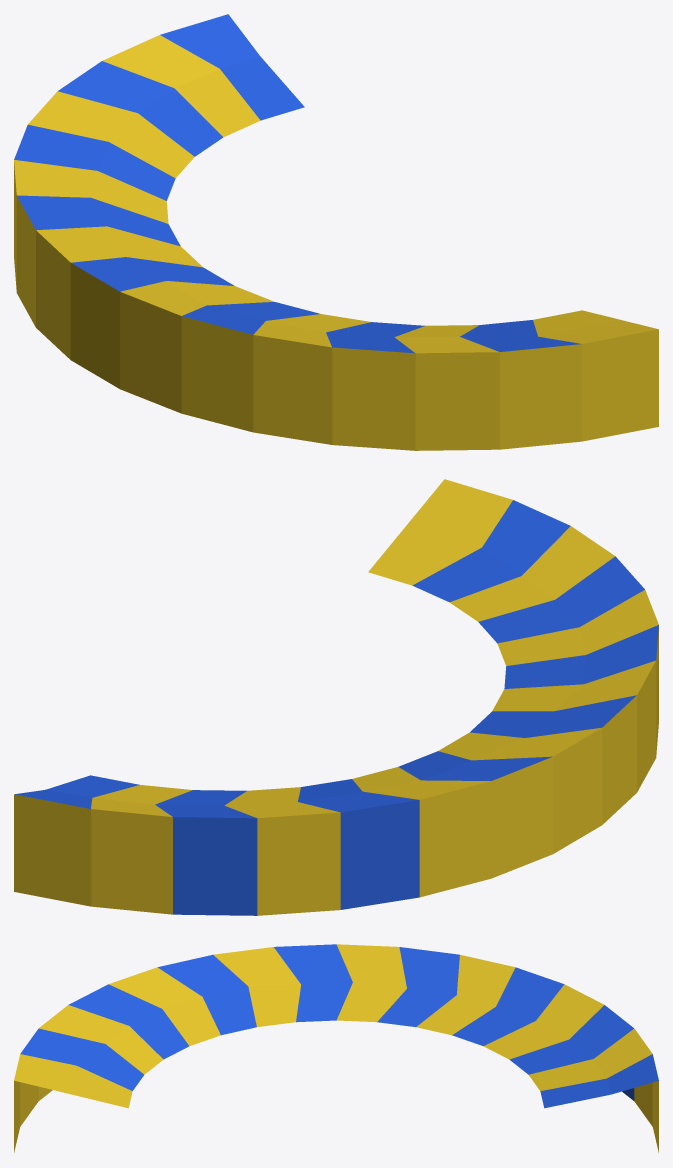
Rendered from berm.glb.
3 renders of one model, top to bottom at view 1: azimuth 30°, elevation 25°; view 2: azimuth 150°, elevation 25°; view 3: azimuth 270°, elevation 25°, orthographic. The views are drawn at different scales.
Visible parts, largest first — view 1: Cylinder; view 2: Cylinder; view 3: Cylinder.
Boxes of the visible parts, bbox=[...] form: Cylinder: bbox=[14, 14, 658, 450]; Cylinder: bbox=[14, 479, 658, 915]; Cylinder: bbox=[14, 944, 658, 1152].
Bounding box in the file's own units: 8 × 2 × 16.
